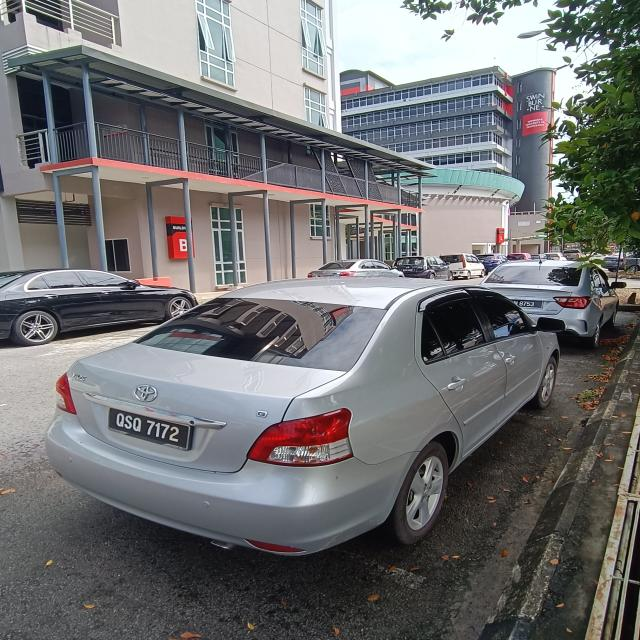ToyotaVios: (44, 271, 563, 557)
